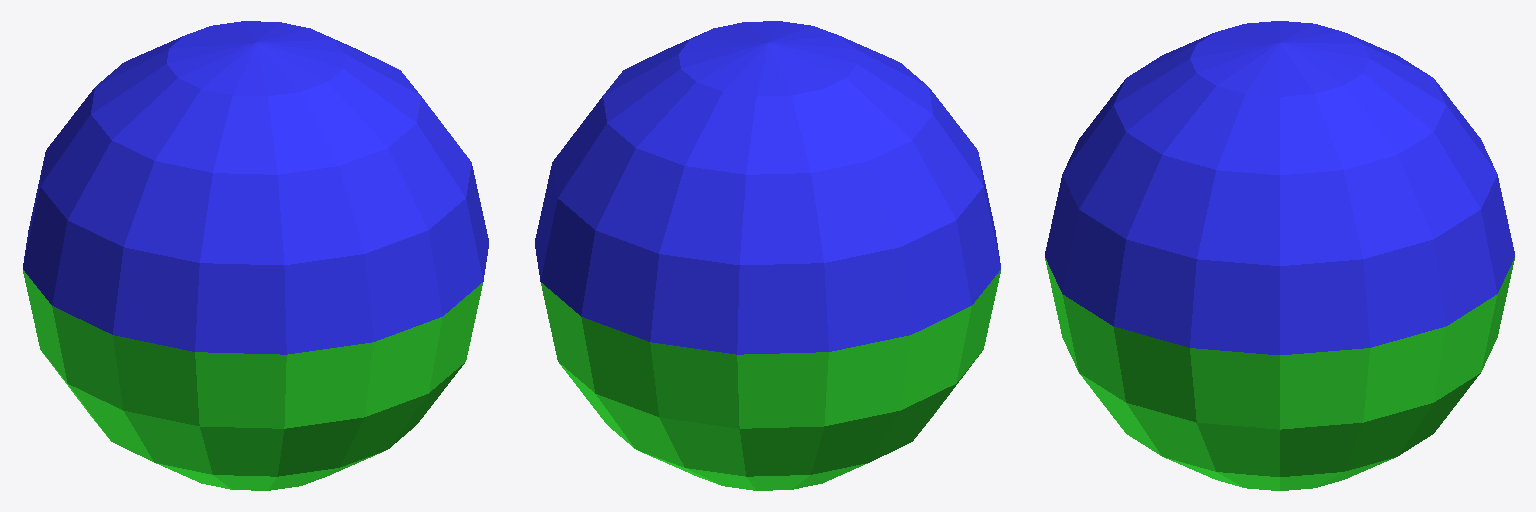
3 renders of one model, left to right at view 1: azimuth 30°, elevation 25°; view 2: azimuth 150°, elevation 25°; view 3: azimuth 270°, elevation 25°, orthographic.
Parts seen in each view (by area): view 1: sphere1; view 2: sphere1; view 3: sphere1.
Part boxes in pixels (bbox=[...]): sphere1: bbox=[23, 21, 488, 490]; sphere1: bbox=[535, 21, 1000, 490]; sphere1: bbox=[1045, 21, 1514, 490].
Bounding box in the file's own units: 2 × 2 × 2.
Materials: 1 (1 with a texture image).